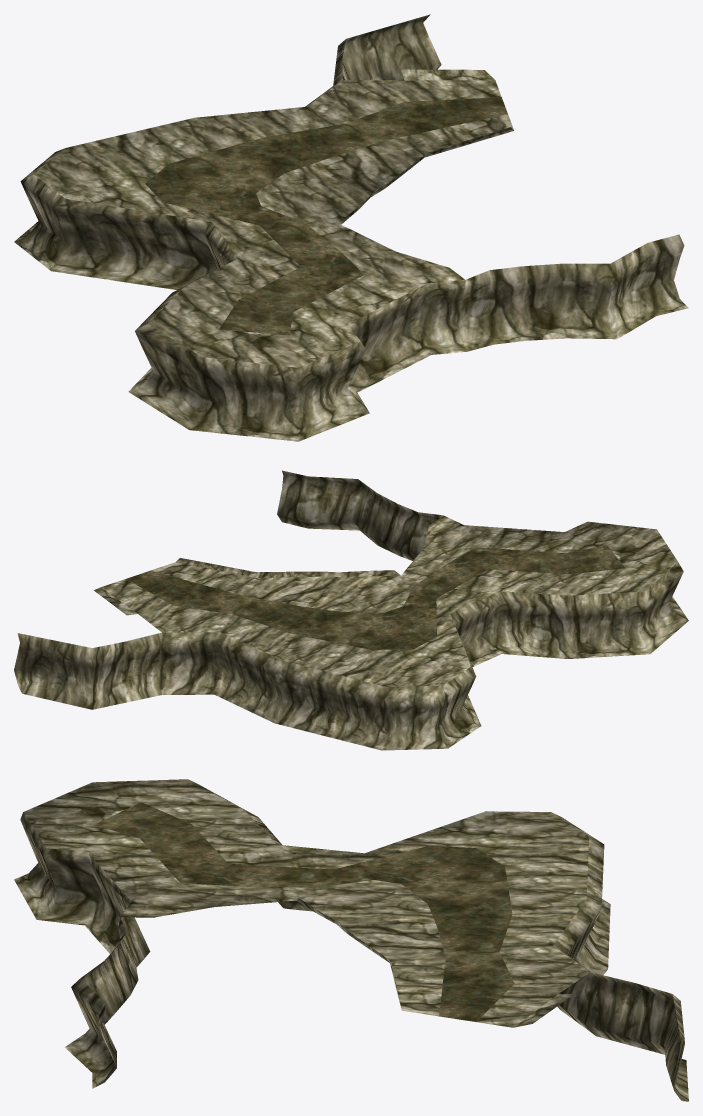
The model's file is CB_NEWPLAYSURFACE_CB_PLAYSURFACE145.fbx.
The picture shows the model from 3 angles, top to bottom: view 1: azimuth 30°, elevation 25°; view 2: azimuth 150°, elevation 25°; view 3: azimuth 270°, elevation 25°; orthographic projection. The views are drawn at different scales.
Visible parts, largest first — view 1: CB_NEWPLAYSURFACE_CB_PLAYSURFACE145; view 2: CB_NEWPLAYSURFACE_CB_PLAYSURFACE145; view 3: CB_NEWPLAYSURFACE_CB_PLAYSURFACE145.
Boxes of the visible parts, bbox=[...] form: CB_NEWPLAYSURFACE_CB_PLAYSURFACE145: bbox=[14, 14, 688, 441]; CB_NEWPLAYSURFACE_CB_PLAYSURFACE145: bbox=[14, 470, 688, 750]; CB_NEWPLAYSURFACE_CB_PLAYSURFACE145: bbox=[14, 779, 688, 1101].
Bounding box in the file's own units: 292728 × 37864 × 311393.
3 materials, 3 textured.
